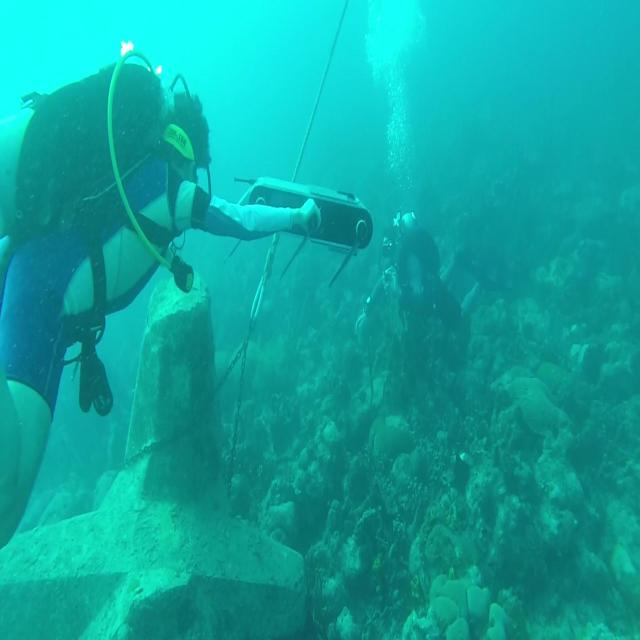human: (1, 49, 322, 550), (364, 178, 522, 389)
